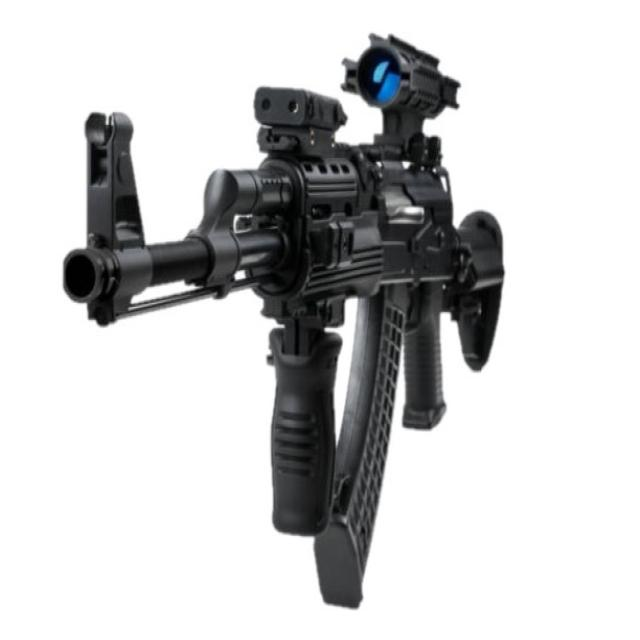rifle: (52, 23, 508, 611)
